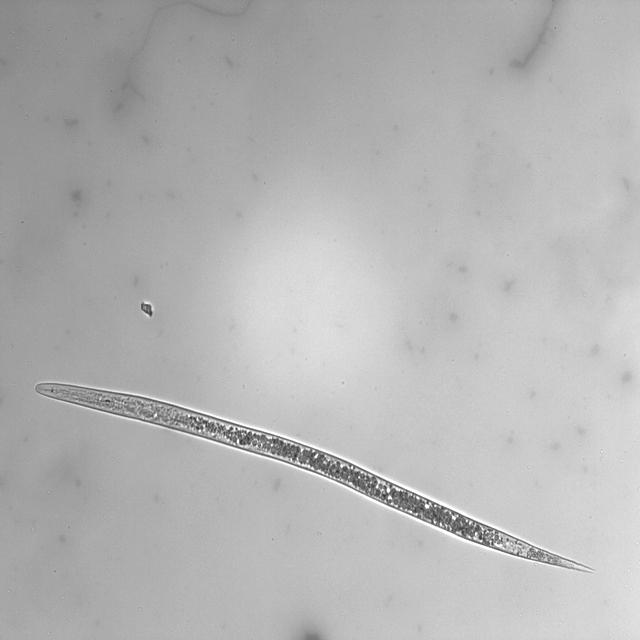Meloidogyne: (31, 382, 594, 582)
